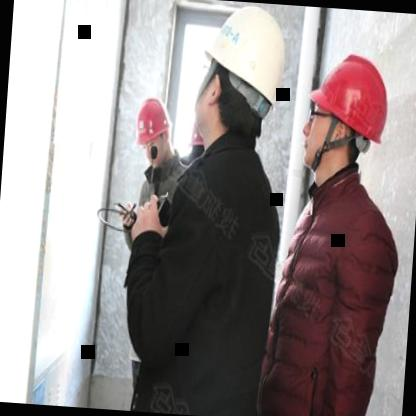helmet: (184, 0, 298, 160), (299, 38, 401, 188), (132, 92, 172, 171)
